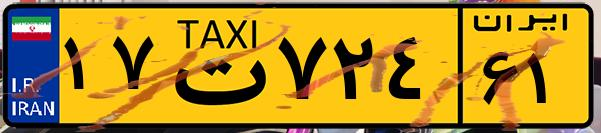1: (57, 26, 110, 100), (525, 38, 570, 115)
2: (330, 28, 385, 110)
4: (385, 28, 445, 110)
6: (475, 38, 525, 113)
7: (270, 28, 330, 110), (110, 28, 158, 98)
ت: (158, 12, 270, 120)
